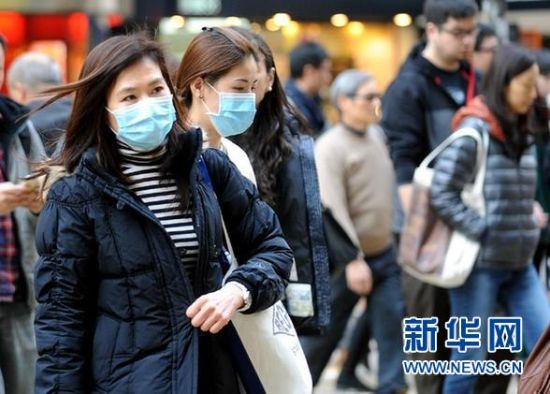mask: (111, 99, 191, 155), (213, 82, 274, 139)
